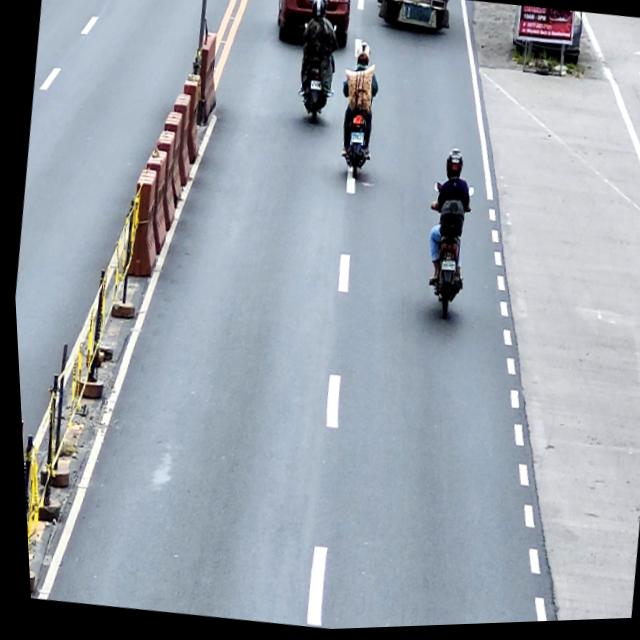Car: (272, 0, 353, 53)
Jeep: (374, 0, 452, 42)
License-Plate: (438, 262, 453, 275), (348, 134, 363, 147), (308, 82, 322, 93), (309, 0, 326, 5)
Motorcycle: (413, 183, 478, 326), (330, 79, 382, 184), (290, 23, 341, 127)
